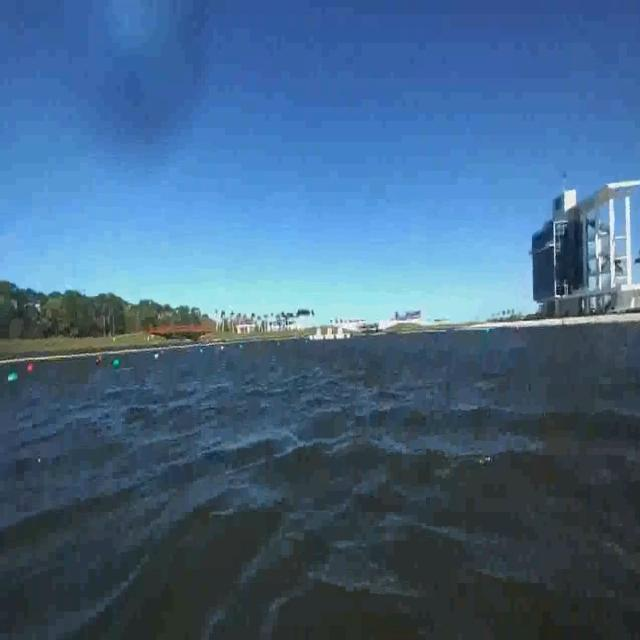green-buoy: (7, 373, 18, 382), (113, 359, 120, 368)
